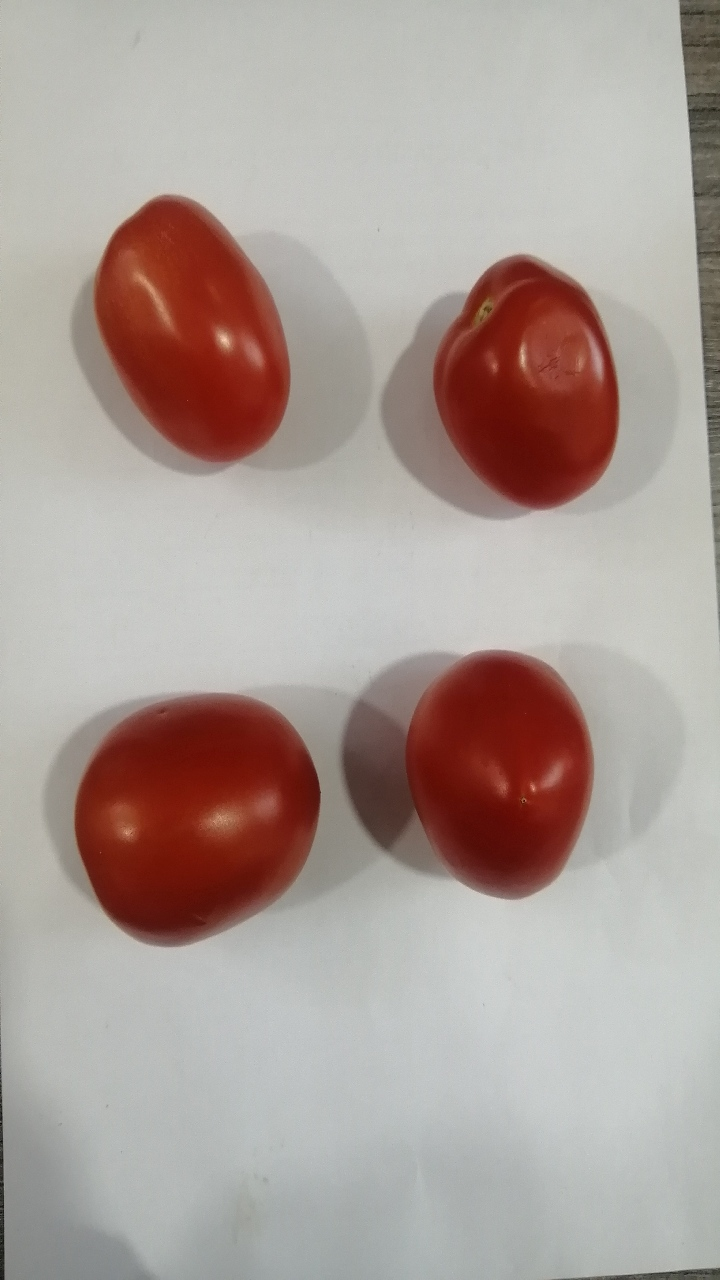tomateRojo: (48, 660, 341, 974), (68, 166, 334, 494), (398, 225, 654, 551), (375, 628, 615, 940)
